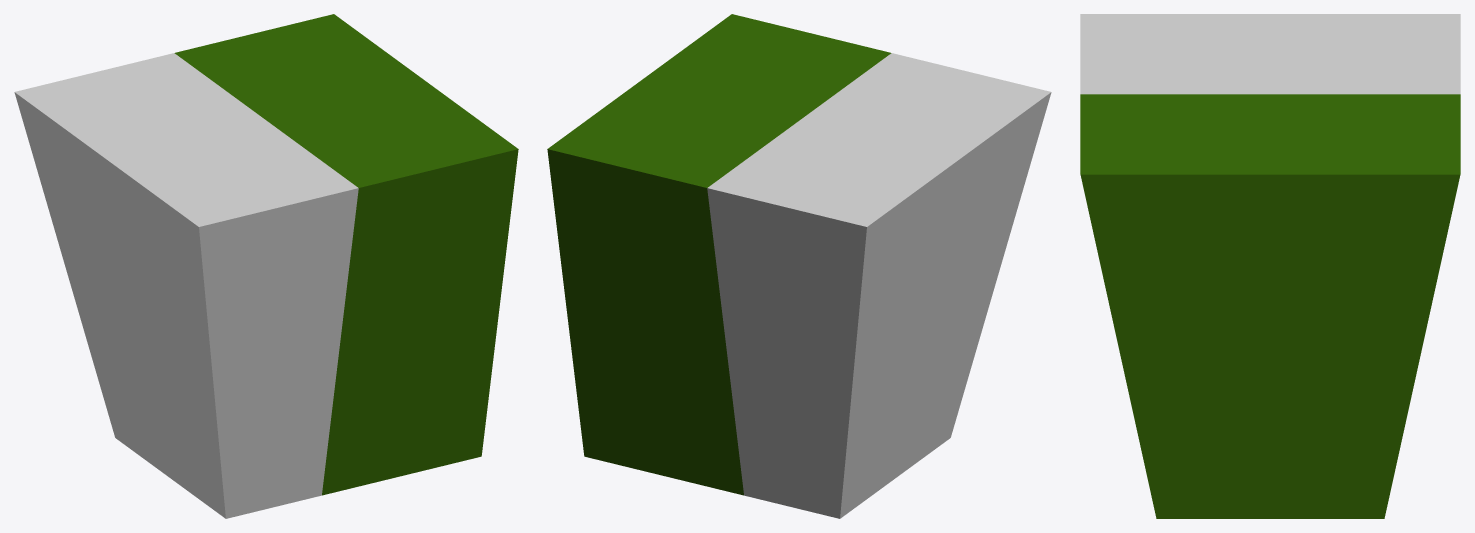
The model's file is Grass_01_I_F.fbx.
3 renders of one model, left to right at view 1: azimuth 30°, elevation 25°; view 2: azimuth 150°, elevation 25°; view 3: azimuth 270°, elevation 25°, orthographic. The views are drawn at different scales.
Parts seen in each view (by area): view 1: 3, 1, 4, 2; view 2: 4, 2, 3, 1; view 3: 1, 2, 3, 4.
Boxes of the visible parts, box(x1,y1,x2,y2) form: 3: box(107, 120, 358, 518); 1: box(267, 81, 518, 495); 4: box(14, 53, 265, 477); 2: box(174, 14, 425, 120); 4: box(707, 120, 958, 518); 2: box(547, 81, 798, 495); 3: box(800, 53, 1051, 477); 1: box(640, 14, 891, 120); 1: box(1080, 94, 1270, 518); 2: box(1270, 94, 1460, 518); 3: box(1080, 14, 1270, 94); 4: box(1270, 14, 1460, 94).
Bounding box in the file's own units: 200 × 200 × 200.
